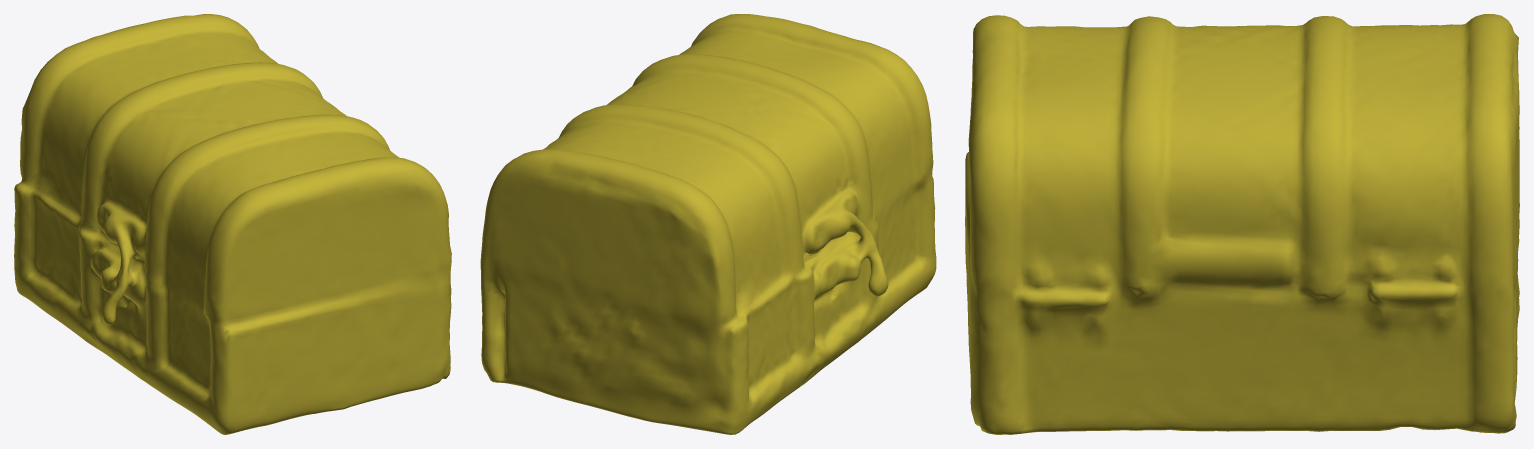
The model's file is ChestBox.fbx.
3 renders of one model, left to right at view 1: azimuth 30°, elevation 25°; view 2: azimuth 150°, elevation 25°; view 3: azimuth 270°, elevation 25°, orthographic. The views are drawn at different scales.
Parts seen in each view (by area): view 1: box_3_001.001; view 2: box_3_001.001; view 3: box_3_001.001.
Part boxes in pixels (x1,y1,x2,y2): box_3_001.001: [14, 14, 451, 434]; box_3_001.001: [480, 14, 936, 434]; box_3_001.001: [965, 14, 1519, 434].
Bounding box in the file's own units: 1913 × 1572 × 2523.
